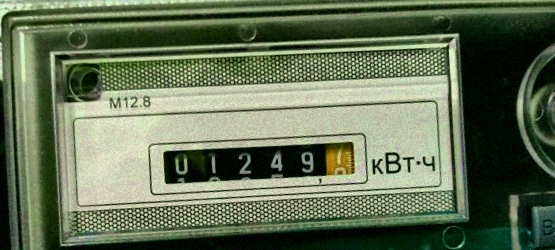0: (171, 148, 191, 176)
1: (203, 148, 220, 175)
2: (233, 149, 254, 177)
4: (266, 146, 285, 173)
7: (330, 138, 348, 166)
9: (296, 147, 316, 175)
screen: (142, 113, 374, 215)
